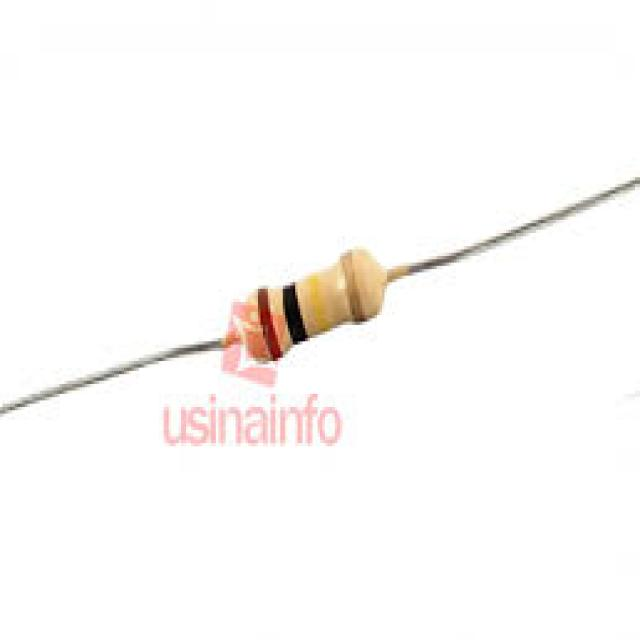Resistor: (225, 248, 383, 366)
